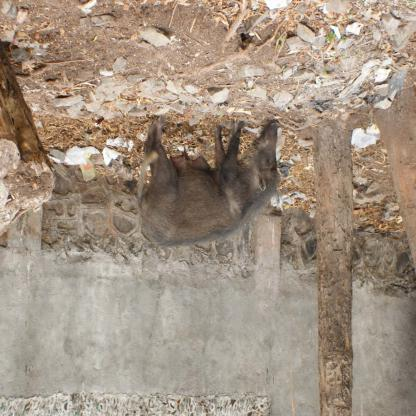boar: (134, 114, 280, 251)
